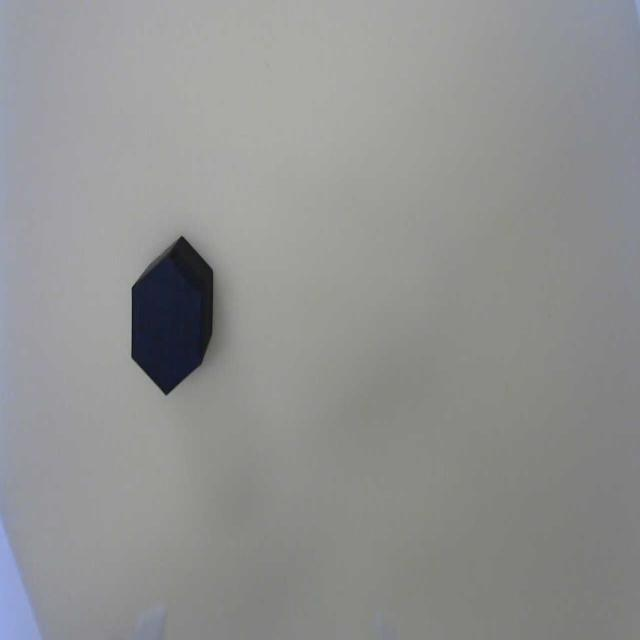hexagon: (131, 251, 204, 399)
